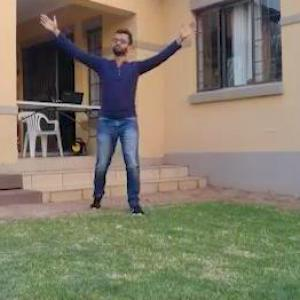takeoff: (52, 7, 218, 220)
